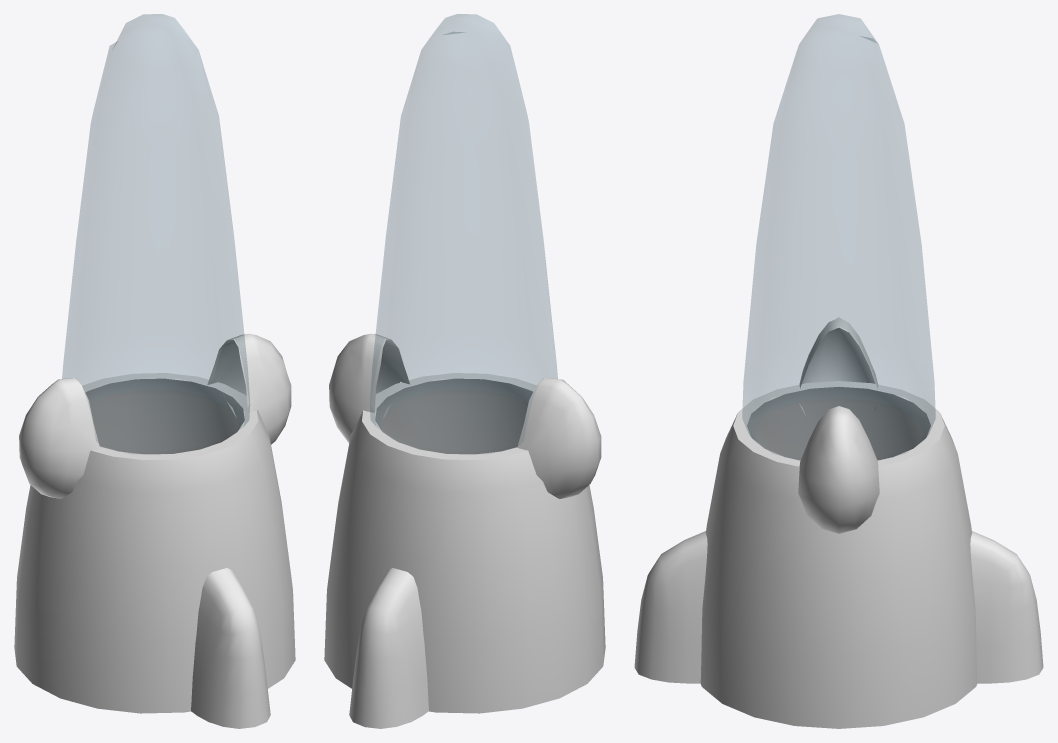
The model's file is lamp_2.fbx.
3 renders of one model, left to right at view 1: azimuth 30°, elevation 25°; view 2: azimuth 150°, elevation 25°; view 3: azimuth 270°, elevation 25°, orthographic. The views are drawn at different scales.
Visible parts, largest first — view 1: lamp_base, bulb, base_foot_2, side1, side2; view 2: lamp_base, bulb, base_foot_1, side1, side2; view 3: lamp_base, bulb, base_foot_1, base_foot_2, side2, side1.
Boxes of the visible parts, x1=… form: lamp_base: x1=14, y1=373, x2=295, y2=713; bulb: x1=62, y1=14, x2=249, y2=453; base_foot_2: x1=191, y1=568, x2=270, y2=728; side1: x1=19, y1=378, x2=100, y2=498; side2: x1=207, y1=333, x2=291, y2=444; lamp_base: x1=324, y1=373, x2=605, y2=713; bulb: x1=370, y1=14, x2=557, y2=453; base_foot_1: x1=349, y1=568, x2=428, y2=728; side1: x1=517, y1=378, x2=601, y2=498; side2: x1=329, y1=333, x2=409, y2=443; lamp_base: x1=700, y1=381, x2=977, y2=728; bulb: x1=742, y1=14, x2=935, y2=459; base_foot_1: x1=970, y1=531, x2=1043, y2=683; base_foot_2: x1=634, y1=531, x2=707, y2=683; side2: x1=798, y1=406, x2=879, y2=533; side1: x1=799, y1=317, x2=878, y2=415.
Size of the model in its own units: 213 by 485 by 277.
